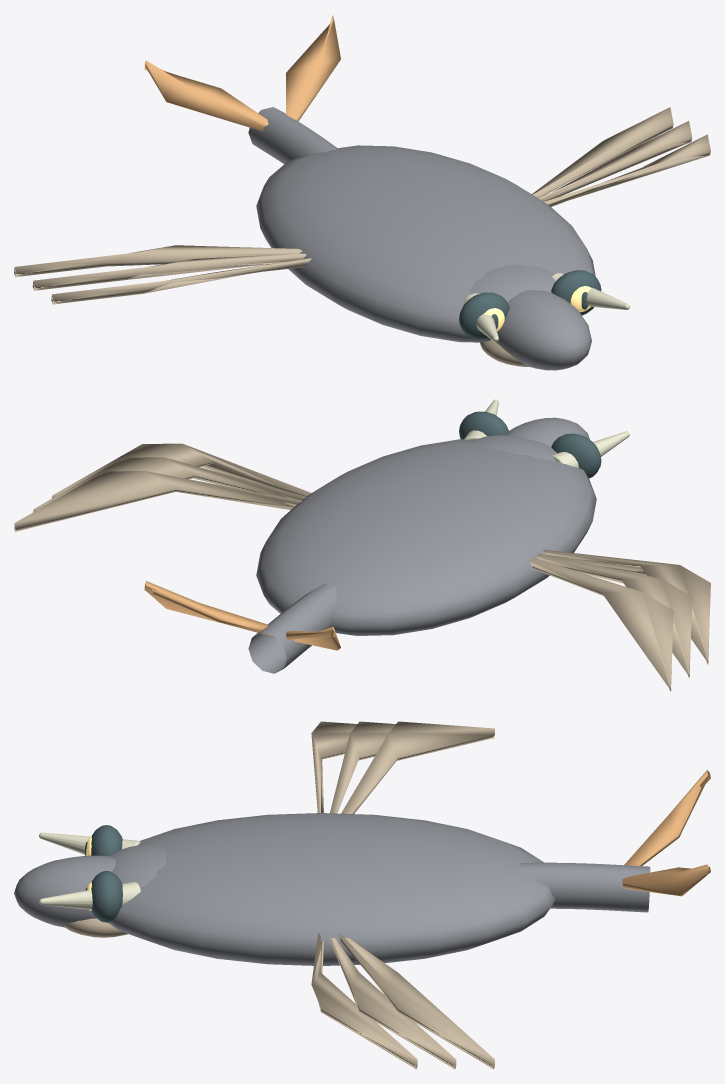
The model's file is bio_ray_20_near.glb.
The picture shows the model from 3 angles, top to bottom: view 1: azimuth 30°, elevation 25°; view 2: azimuth 150°, elevation 25°; view 3: azimuth 270°, elevation 25°; orthographic projection. The views are drawn at different scales.
Parts seen in each view (by area): view 1: Hydrodynamic mantle, Flexible fin lobe, Cranium, Flexible fin lobe.003, Caudal fin, Tail stalk, Protected orbit, Forward cheek tine; view 2: Hydrodynamic mantle, Flexible fin lobe, Flexible fin lobe.003, Tail stalk, Caudal fin, Cranium, Protected orbit, Forward cheek tine; view 3: Hydrodynamic mantle, Flexible fin lobe.003, Flexible fin lobe, Cranium, Tail stalk, Caudal fin, Protected orbit, Forward cheek tine, Lower mandible.
Part boxes in pixels (x1=…): Hydrodynamic mantle: x1=256, y1=145, x2=595, y2=342; Flexible fin lobe: x1=14, y1=245, x2=311, y2=304; Cranium: x1=470, y1=264, x2=591, y2=370; Flexible fin lobe.003: x1=532, y1=107, x2=710, y2=206; Caudal fin: x1=144, y1=15, x2=340, y2=131; Tail stalk: x1=248, y1=107, x2=336, y2=164; Protected orbit: x1=459, y1=270, x2=601, y2=339; Forward cheek tine: x1=463, y1=272, x2=629, y2=341; Hydrodynamic mantle: x1=256, y1=439, x2=596, y2=635; Flexible fin lobe: x1=529, y1=549, x2=710, y2=691; Flexible fin lobe.003: x1=14, y1=443, x2=311, y2=532; Tail stalk: x1=248, y1=583, x2=337, y2=673; Caudal fin: x1=144, y1=581, x2=340, y2=650; Cranium: x1=470, y1=417, x2=589, y2=460; Protected orbit: x1=459, y1=411, x2=601, y2=478; Forward cheek tine: x1=464, y1=399, x2=629, y2=467; Hydrodynamic mantle: x1=107, y1=813, x2=555, y2=965; Flexible fin lobe.003: x1=311, y1=932, x2=494, y2=1069; Flexible fin lobe: x1=311, y1=721, x2=494, y2=813; Cranium: x1=14, y1=843, x2=166, y2=927; Tail stalk: x1=519, y1=862, x2=650, y2=912; Caudal fin: x1=622, y1=769, x2=710, y2=896; Protected orbit: x1=85, y1=825, x2=122, y2=922; Forward cheek tine: x1=39, y1=832, x2=140, y2=909; Lower mandible: x1=64, y1=918, x2=127, y2=937.
Bounding box in the file's own units: 4.06 × 0.665 × 3.61.
